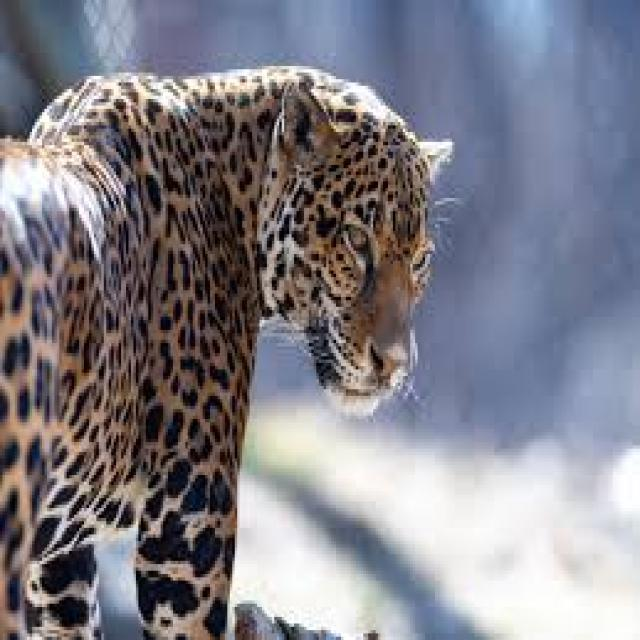Jaguar: (0, 46, 457, 640)
